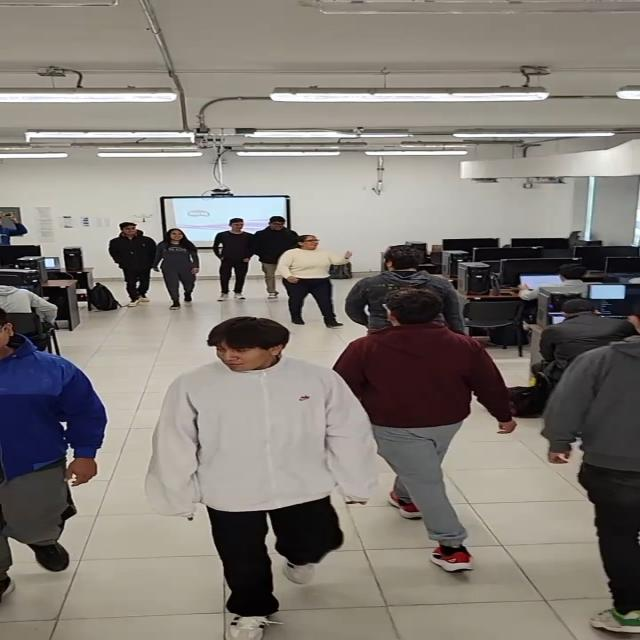Persona: (143, 314, 355, 640), (344, 286, 517, 581), (540, 302, 640, 639), (0, 306, 105, 599), (280, 230, 349, 330), (106, 220, 154, 308), (157, 226, 201, 311), (212, 215, 252, 302), (254, 212, 286, 299)
